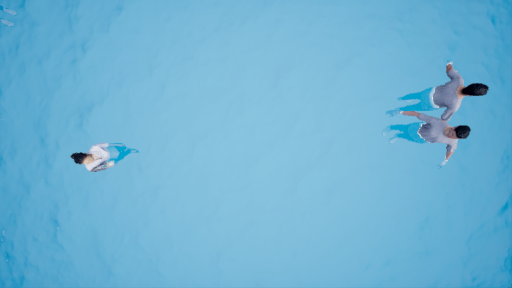person: (387, 61, 488, 116), (379, 114, 479, 163), (67, 135, 142, 179)
